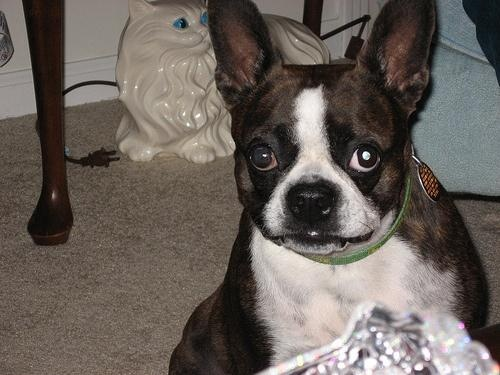dog: (171, 2, 487, 372)
